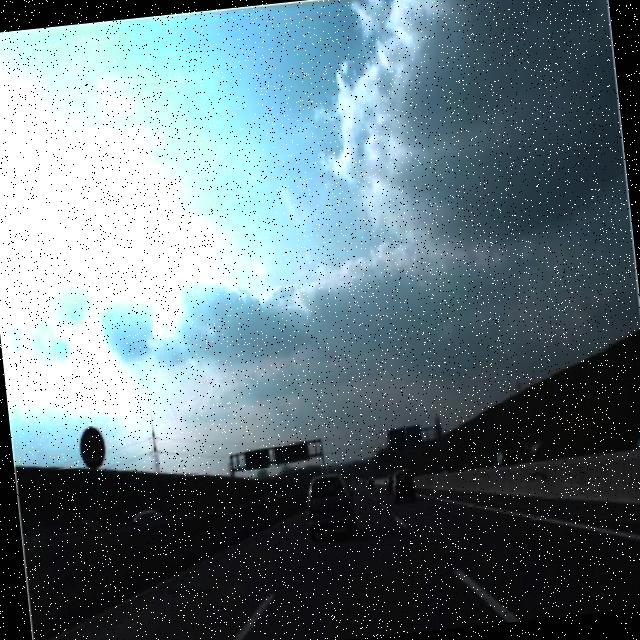Ograniczenie predkosci do 100: (78, 423, 110, 469)
